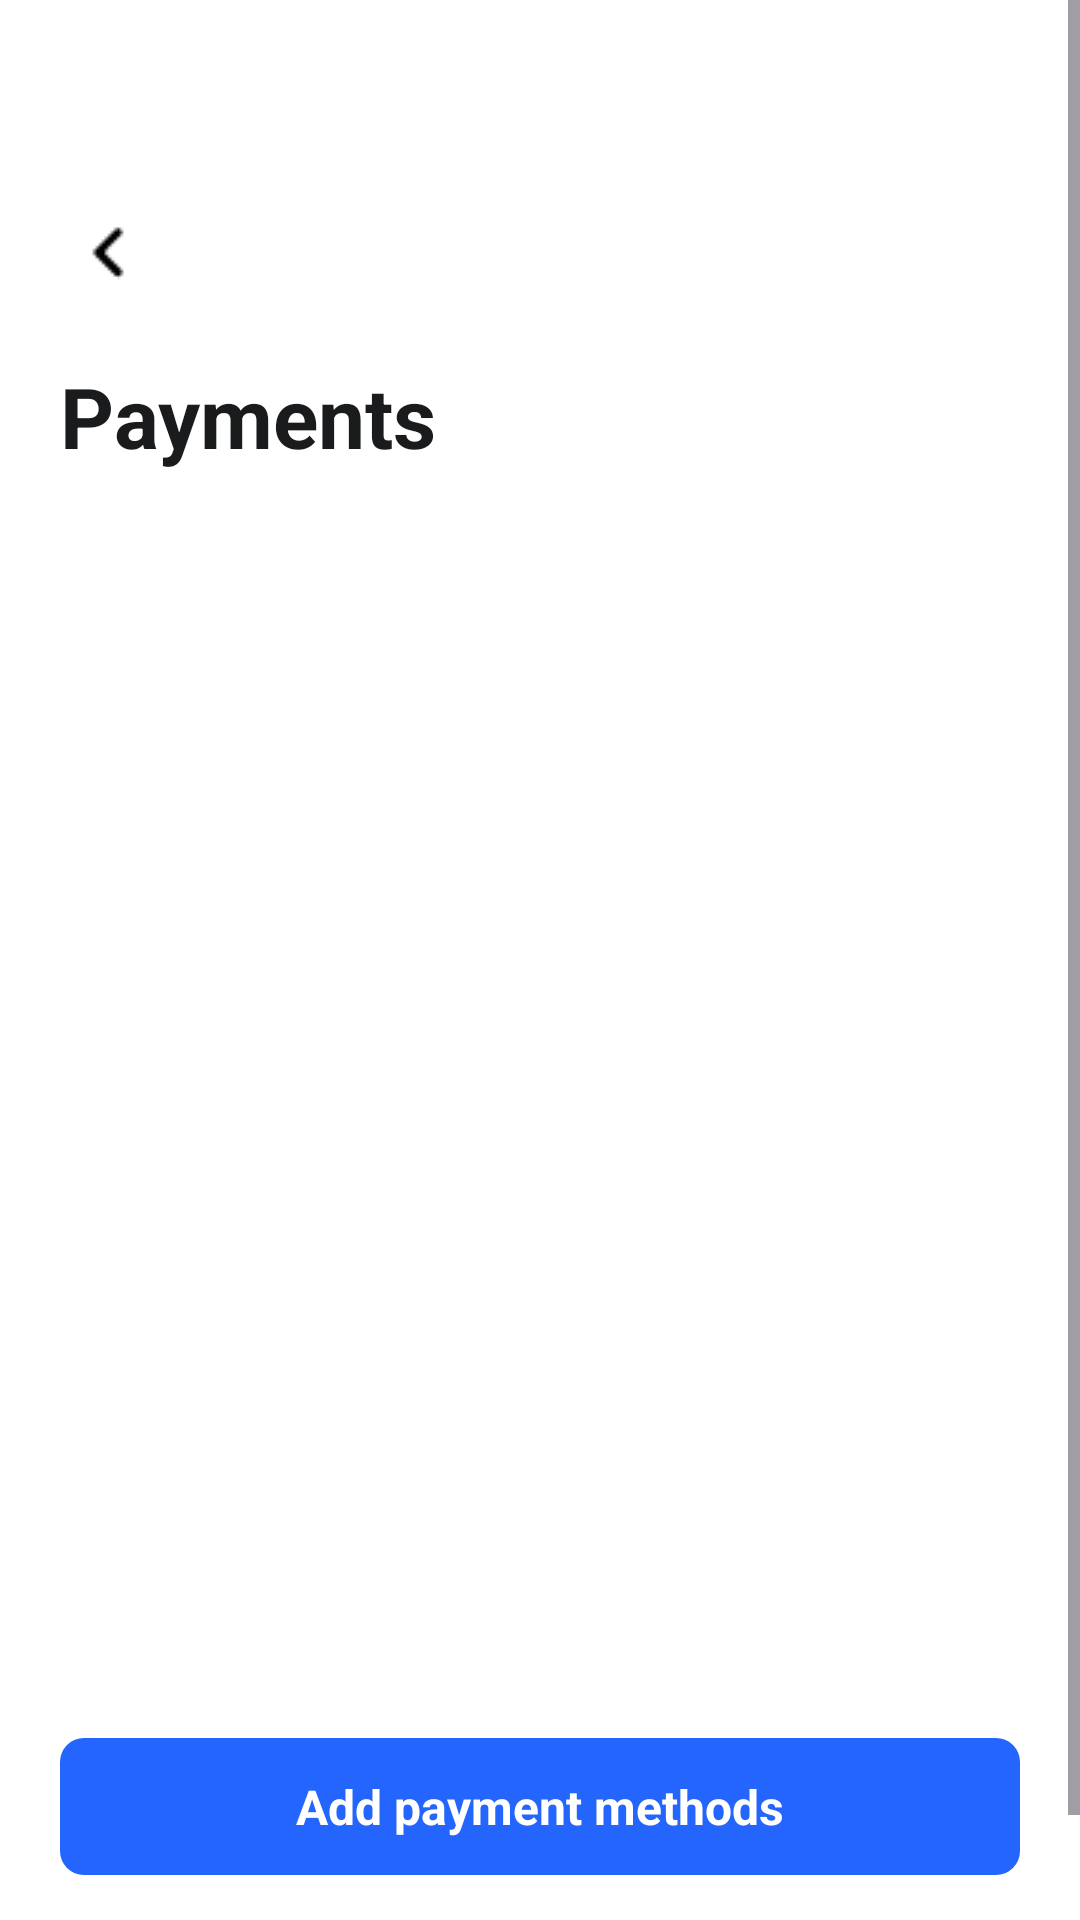

Point at icon controls on the screen. Image size 1080x1920, points as point (x, y).
Back: point (108, 252)
